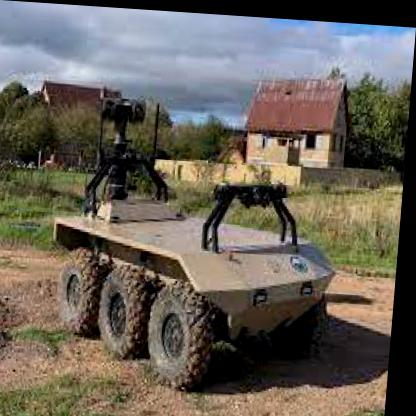UGV: (36, 96, 339, 392)
